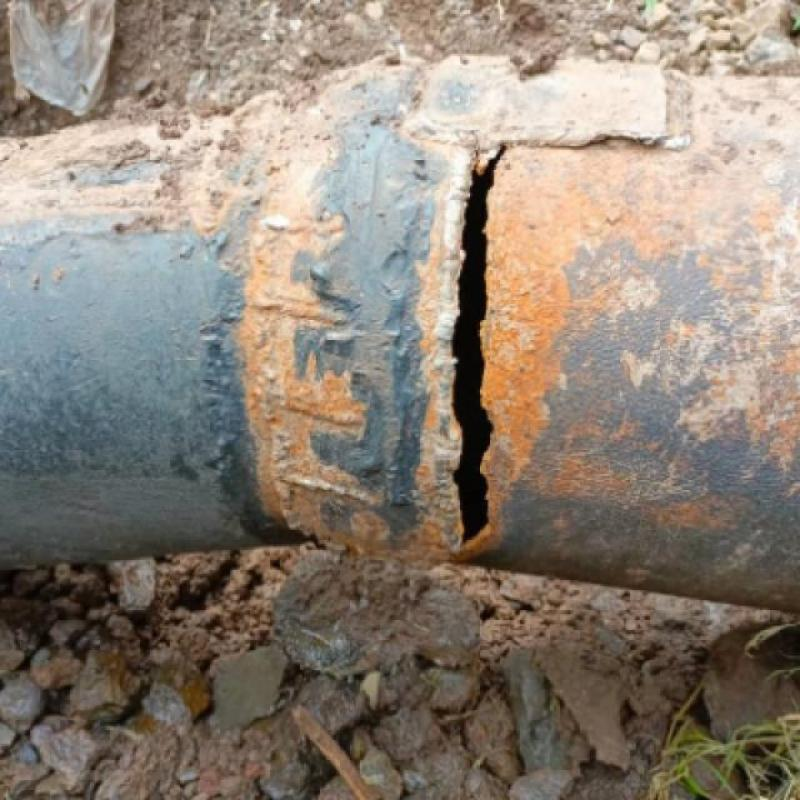Fracture: (445, 172, 510, 593)
